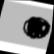correct: (16, 11, 53, 44)
